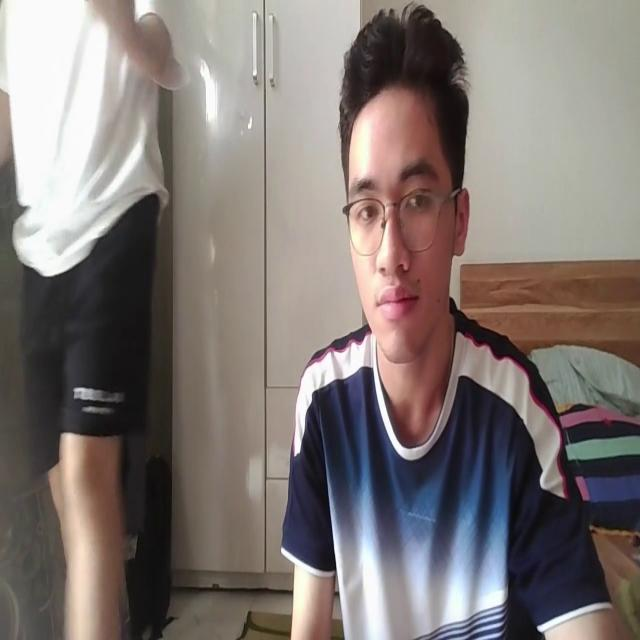extra_person: (1, 2, 180, 640)
student: (274, 6, 614, 640)
